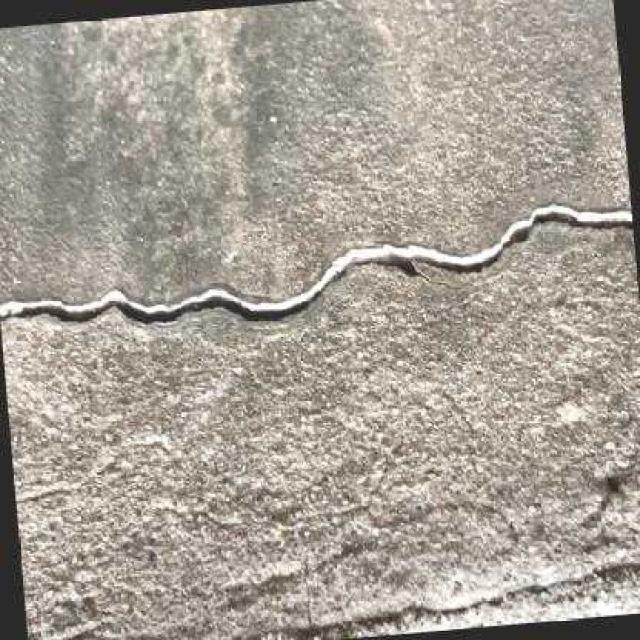D00: (0, 194, 634, 333)
